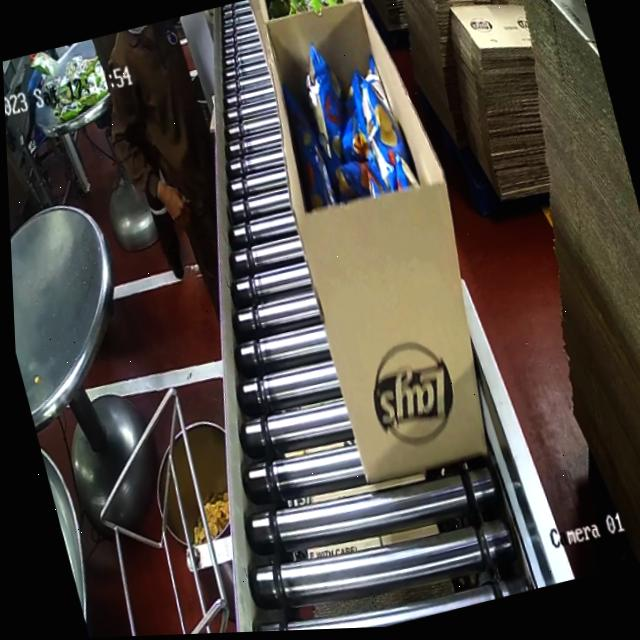PAPRIKA: (273, 35, 418, 213)
